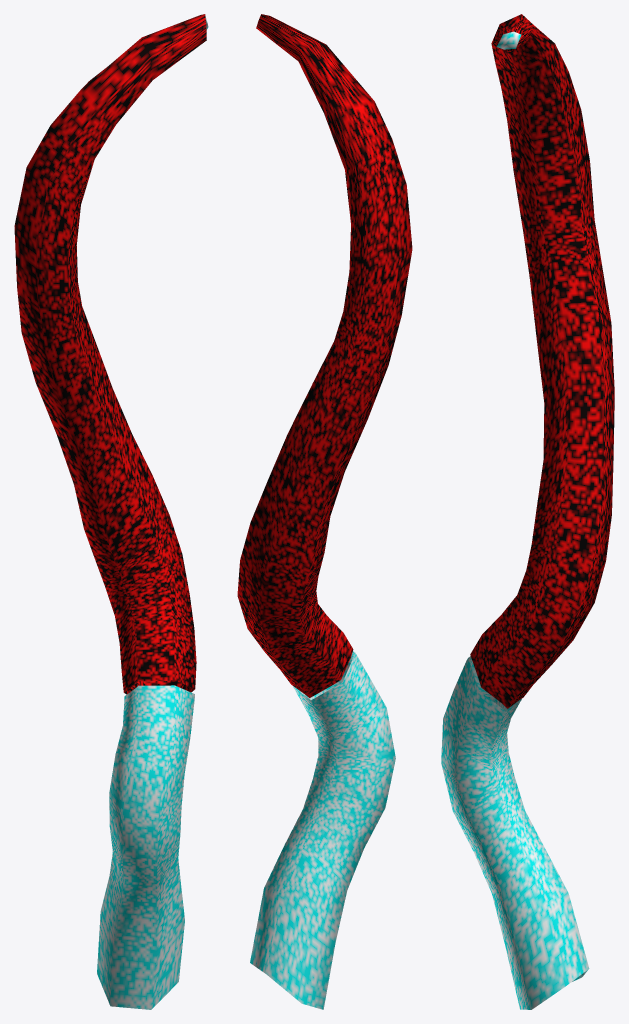
File: SM_Tentacle_03_KMH.fbx
3 renders of one model, left to right at view 1: azimuth 30°, elevation 25°; view 2: azimuth 150°, elevation 25°; view 3: azimuth 270°, elevation 25°, orthographic. The views are drawn at different scales.
Parts seen in each view (by area): view 1: SM_Tentacle_03_KMH; view 2: SM_Tentacle_03_KMH; view 3: SM_Tentacle_03_KMH.
Boxes of the visible parts, left/top/right/bottom form: SM_Tentacle_03_KMH: left=14, top=14, right=208, bottom=1009; SM_Tentacle_03_KMH: left=237, top=14, right=412, bottom=1009; SM_Tentacle_03_KMH: left=441, top=14, right=614, bottom=1009.
Bounding box in the file's own units: 40.69 × 227 × 35.54.
